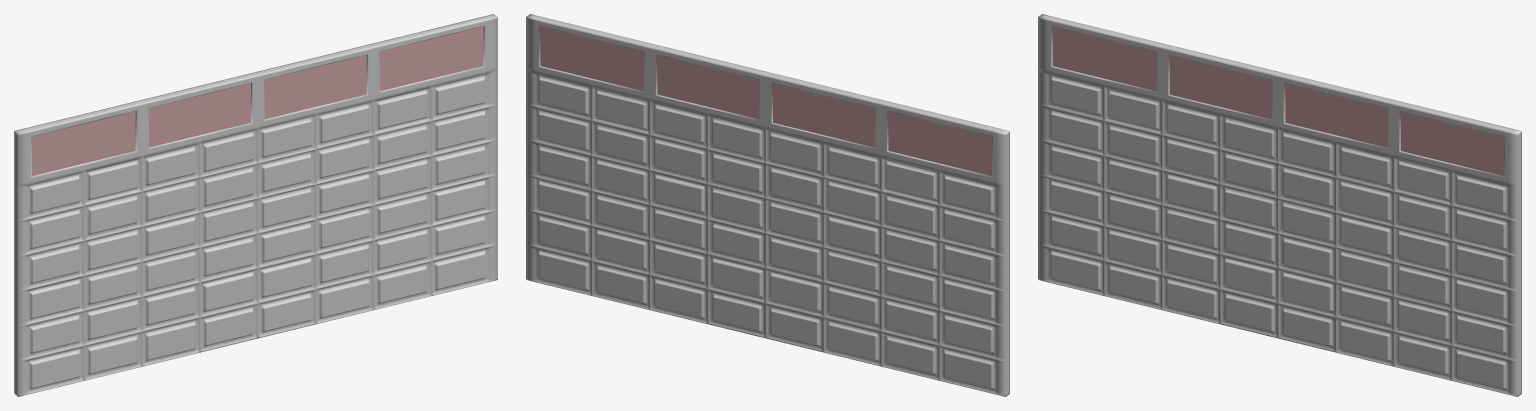
Rendered from GarageDoorSquareGrilled.fbx.
3 renders of one model, left to right at view 1: azimuth 30°, elevation 25°; view 2: azimuth 150°, elevation 25°; view 3: azimuth 330°, elevation 25°, orthographic.
Parts seen in each view (by area): view 1: GarageDoor_LOD0; view 2: GarageDoor_LOD0; view 3: GarageDoor_LOD0.
Boxes of the visible parts, left/top/right/bottom form: GarageDoor_LOD0: left=14, top=14, right=497, bottom=396; GarageDoor_LOD0: left=526, top=14, right=1009, bottom=396; GarageDoor_LOD0: left=1038, top=14, right=1521, bottom=396.
Size of what is drawn, in the model's own units: 493 by 258 by 9.3.
